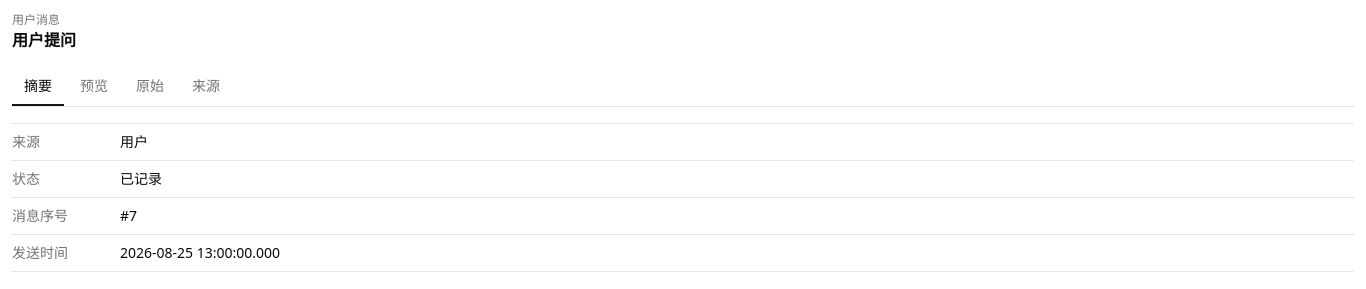
Test case: TrajectoryNodeDetailPanel › 用户 Preview 使用安全 Markdown 展示完整正文和附件摘要
Click the tab "预览". click: (94, 87)
box: [68,68,120,106]
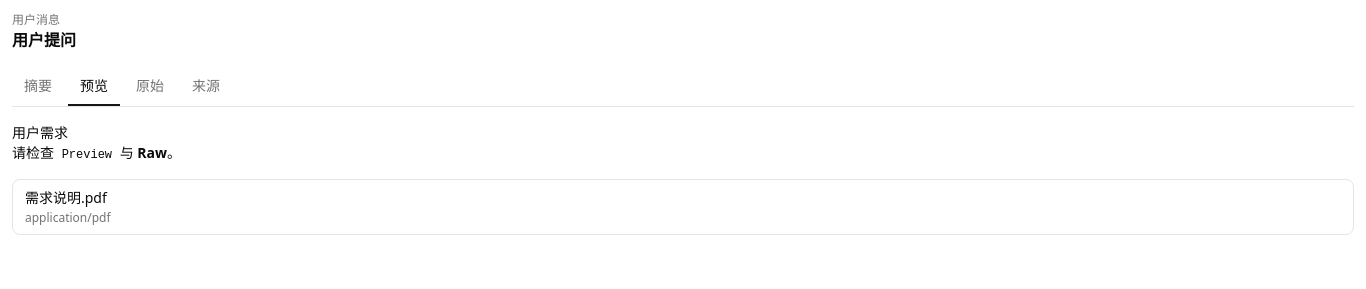
Expected: the heading "用户需求" is shown, [12,123,68,142]
Expected: the text "Preview" is shown, [58,146,116,164]
Expected: the text "Raw" is shown, [137,143,167,162]
